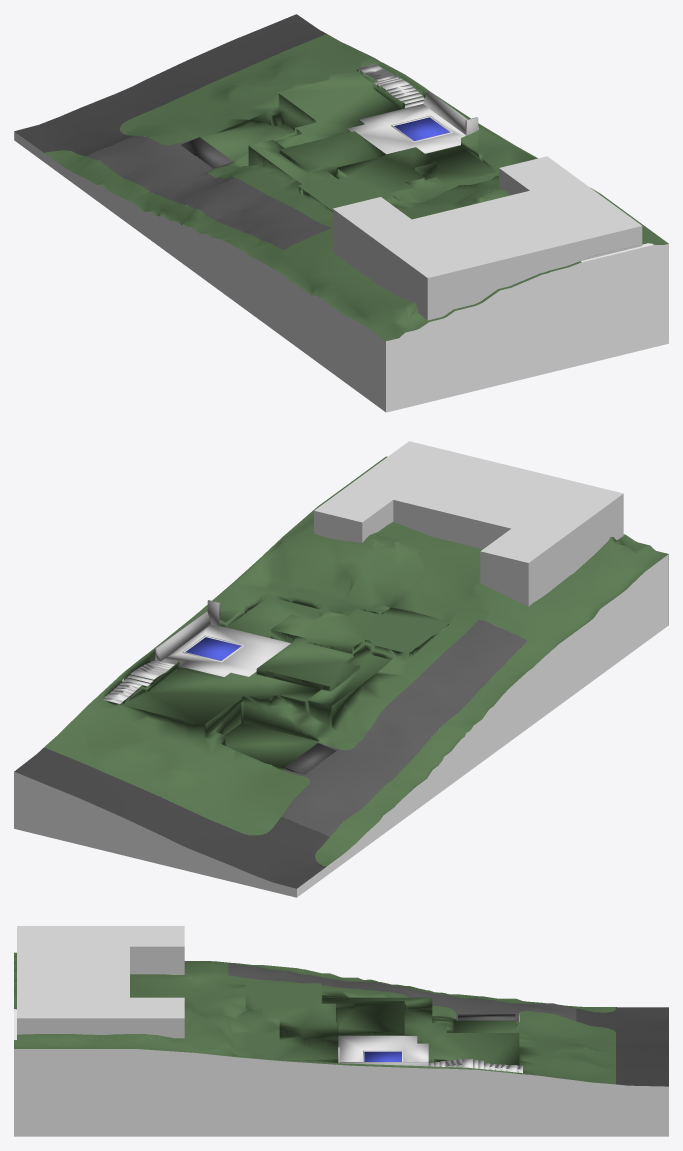
The model's file is site.glb.
The picture shows the model from 3 angles, top to bottom: view 1: azimuth 30°, elevation 25°; view 2: azimuth 150°, elevation 25°; view 3: azimuth 270°, elevation 25°; orthographic projection. The views are drawn at different scales.
Parts seen in each view (by area): view 1: main Site_Grass, main Base, main Blg, main Driveway, main Road.002, main Pavers, main Plaster_1, main Water; view 2: main Site_Grass, main Blg, main Base, main Driveway, main Road.002, main Pavers, main Plaster_1, main Water; view 3: main Base, main Site_Grass, main Blg, main Road.002, main Driveway, main Pavers, main Water.
Boxes of the visible parts, x1,y1,x2,y2 form: main Site_Grass: (44, 34, 668, 340); main Base: (14, 74, 668, 412); main Blg: (332, 156, 642, 320); main Driveway: (86, 136, 331, 249); main Road.002: (14, 14, 326, 156); main Pavers: (348, 63, 465, 154); main Plaster_1: (423, 91, 478, 135); main Water: (394, 117, 449, 140); main Site_Grass: (44, 456, 668, 866); main Blg: (314, 441, 623, 606); main Base: (14, 554, 668, 897); main Driveway: (281, 619, 526, 836); main Road.002: (14, 747, 329, 888); main Pavers: (102, 624, 290, 704); main Plaster_1: (155, 600, 220, 660); main Water: (185, 637, 241, 660); main Base: (14, 1009, 668, 1136); main Site_Grass: (14, 952, 615, 1084); main Blg: (17, 926, 184, 1038); main Road.002: (576, 1007, 668, 1086); main Driveway: (228, 963, 576, 1022); main Pavers: (338, 1035, 522, 1073); main Water: (364, 1051, 401, 1061).
Size of the model in its own units: 31.09 by 12.89 by 70.85.
